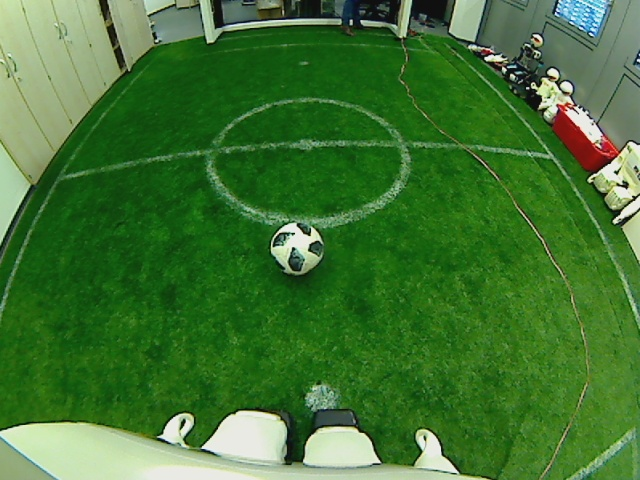ball: (268, 219, 326, 276)
